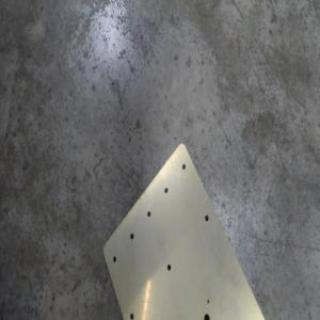MetalSheettrack_idkeyframe: (99, 137, 269, 319)
